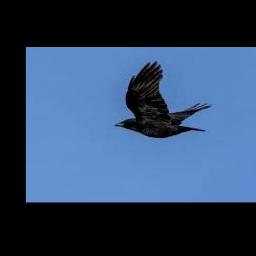Crow: (114, 61, 211, 137)
